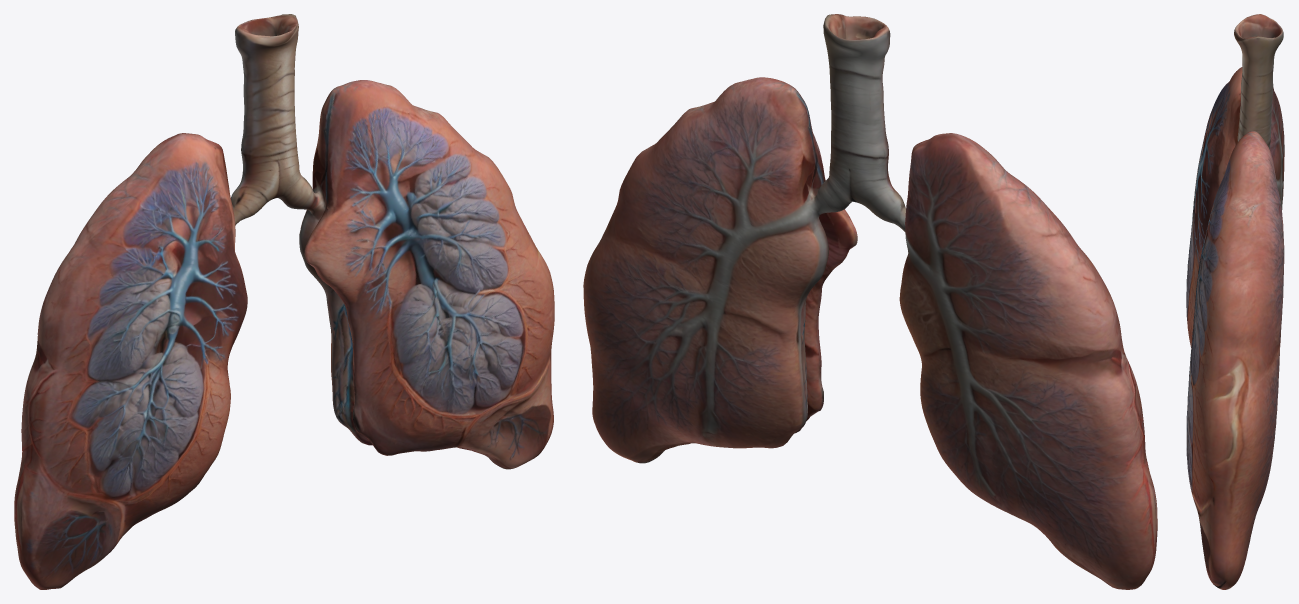
The model's file is lungs.glb.
The picture shows the model from 3 angles, left to right: view 1: azimuth 30°, elevation 25°; view 2: azimuth 150°, elevation 25°; view 3: azimuth 270°, elevation 25°; orthographic projection. The views are drawn at different scales.
Visible parts, largest first — view 1: StylizedHumanLungs_Mesh; view 2: StylizedHumanLungs_Mesh; view 3: StylizedHumanLungs_Mesh.
Part boxes in pixels (left/top/right/bottom): StylizedHumanLungs_Mesh: left=14, top=14, right=554, bottom=589; StylizedHumanLungs_Mesh: left=583, top=14, right=1157, bottom=589; StylizedHumanLungs_Mesh: left=1186, top=14, right=1284, bottom=589.
Bounding box in the file's own units: 0.349 × 0.3102 × 0.0592.
1 material, 1 textured.
